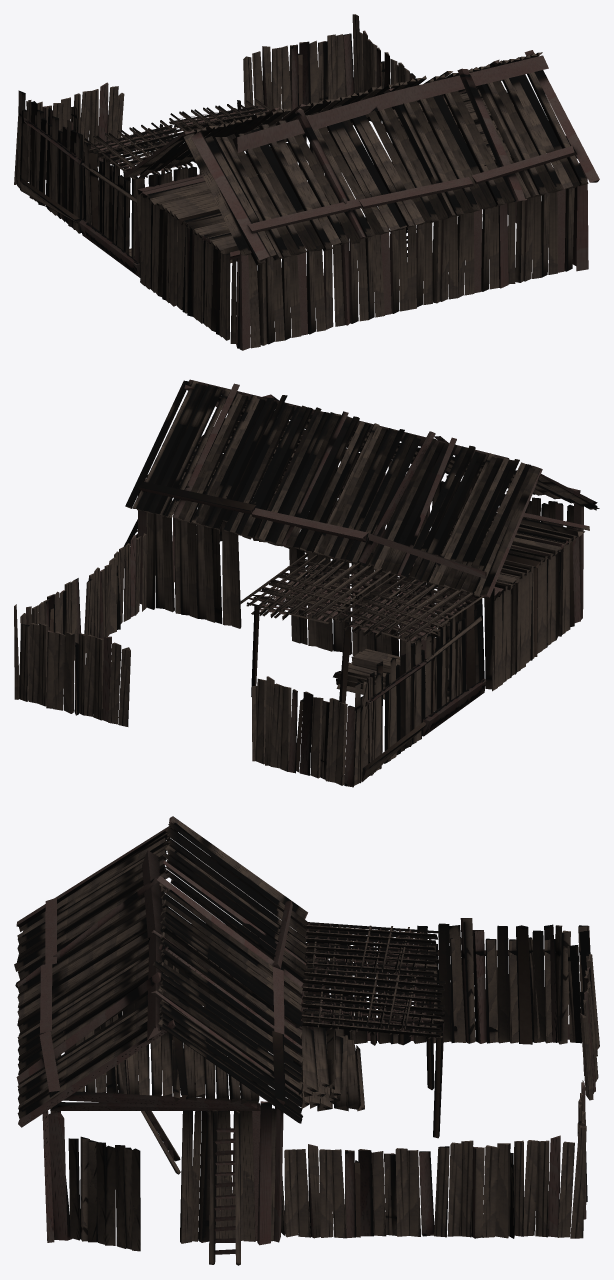
File: pos_penjaga_kayu.glb
The picture shows the model from 3 angles, top to bottom: view 1: azimuth 30°, elevation 25°; view 2: azimuth 150°, elevation 25°; view 3: azimuth 270°, elevation 25°; orthographic projection. The views are drawn at different scales.
Visible parts, largest first — view 1: SM_wooden_barn.001, SM_wooden_barn.003, SM_wooden_barn.006, SM_wooden_barn.011, SM_wooden_barn.005, SM_wooden_barn.004; view 2: SM_wooden_barn.001, SM_wooden_barn.003, SM_wooden_barn.011, SM_wooden_barn.006, SM_wooden_barn.005, SM_wooden_barn.002, SM_wooden_barn.004, SM_wooden_barn.007, SM_wooden_barn.010; view 3: SM_wooden_barn.001, SM_wooden_barn.003, SM_wooden_barn.011, SM_wooden_barn.004, SM_wooden_barn.002, SM_wooden_barn.007, SM_wooden_barn.008, SM_wooden_barn.005, SM_wooden_barn.010, SM_wooden_barn.009.
Boxes of the visible parts, bbox=[...] form: SM_wooden_barn.001: bbox=[124, 50, 599, 350]; SM_wooden_barn.003: bbox=[17, 90, 140, 277]; SM_wooden_barn.006: bbox=[243, 33, 354, 120]; SM_wooden_barn.011: bbox=[83, 99, 306, 180]; SM_wooden_barn.005: bbox=[14, 82, 124, 184]; SM_wooden_barn.004: bbox=[352, 14, 415, 139]; SM_wooden_barn.001: bbox=[125, 379, 599, 691]; SM_wooden_barn.003: bbox=[354, 602, 486, 785]; SM_wooden_barn.011: bbox=[240, 553, 483, 646]; SM_wooden_barn.006: bbox=[18, 623, 130, 726]; SM_wooden_barn.005: bbox=[252, 676, 356, 787]; SM_wooden_barn.002: bbox=[84, 533, 146, 652]; SM_wooden_barn.004: bbox=[14, 578, 81, 699]; SM_wooden_barn.007: bbox=[333, 649, 449, 702]; SM_wooden_barn.010: bbox=[251, 604, 351, 703]; SM_wooden_barn.001: bbox=[14, 816, 307, 1251]; SM_wooden_barn.003: bbox=[285, 918, 590, 1045]; SM_wooden_barn.011: bbox=[295, 922, 445, 1038]; SM_wooden_barn.004: bbox=[434, 1126, 586, 1238]; SM_wooden_barn.002: bbox=[284, 1144, 434, 1238]; SM_wooden_barn.007: bbox=[285, 1026, 364, 1111]; SM_wooden_barn.008: bbox=[209, 1110, 240, 1265]; SM_wooden_barn.005: bbox=[580, 952, 599, 1100]; SM_wooden_barn.010: bbox=[425, 975, 444, 1138]; SM_wooden_barn.009: bbox=[141, 1111, 180, 1174].
Size of the model in its own units: 3.11 by 1.44 by 3.3.
Materials: 1 (1 with a texture image).
